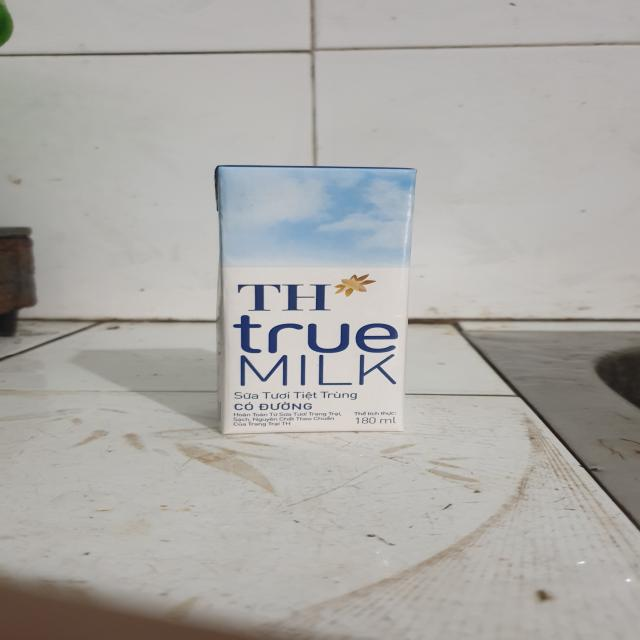TH: (211, 165, 423, 435)
